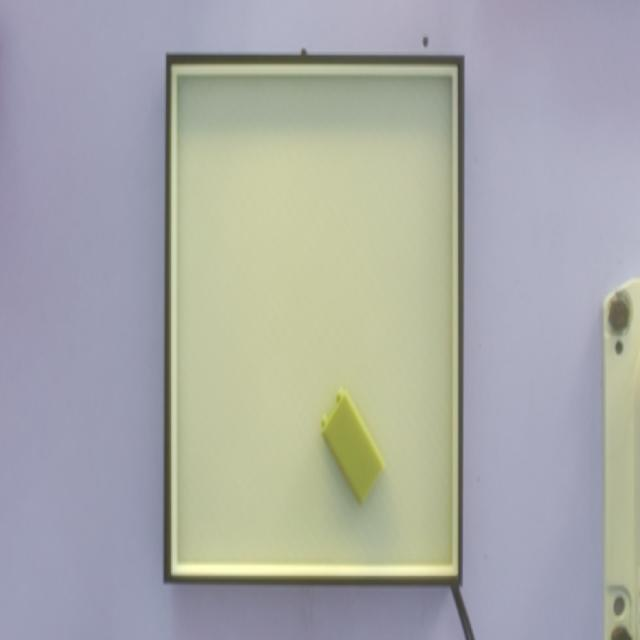bateria: (319, 387, 385, 506)
mesa: (163, 55, 465, 586)
